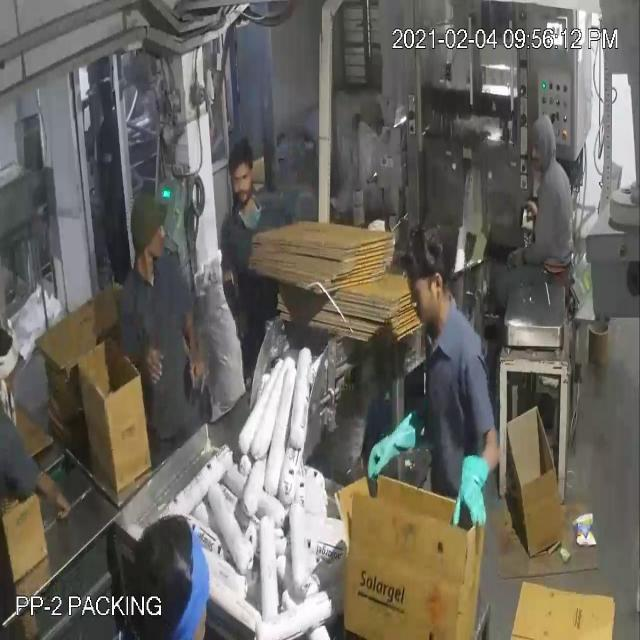No_Gloves: (36, 62, 471, 492)
